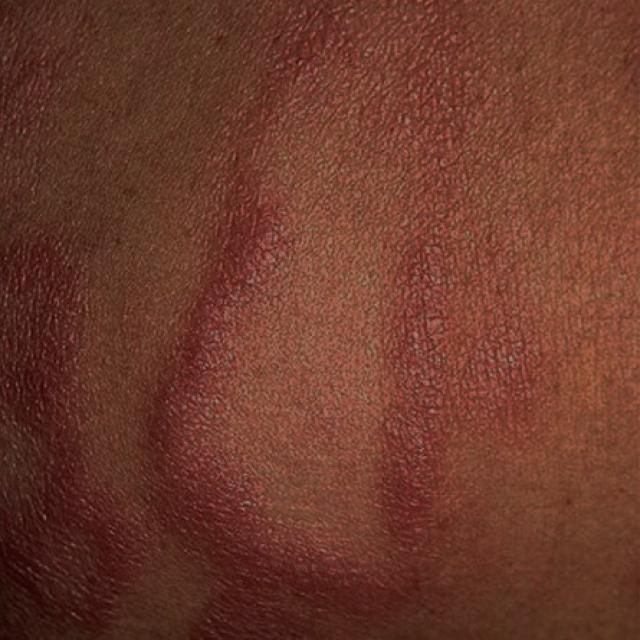Leprosy: (135, 213, 554, 639), (0, 0, 582, 203), (0, 211, 132, 637)
